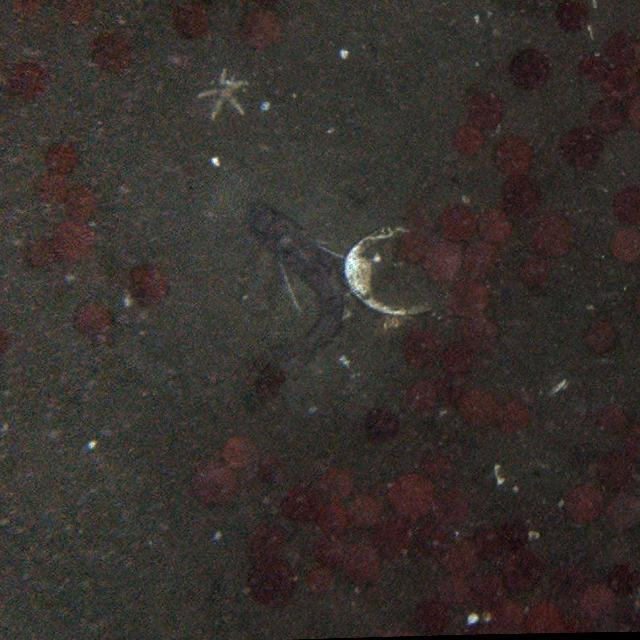roundfish: (243, 200, 349, 406)
